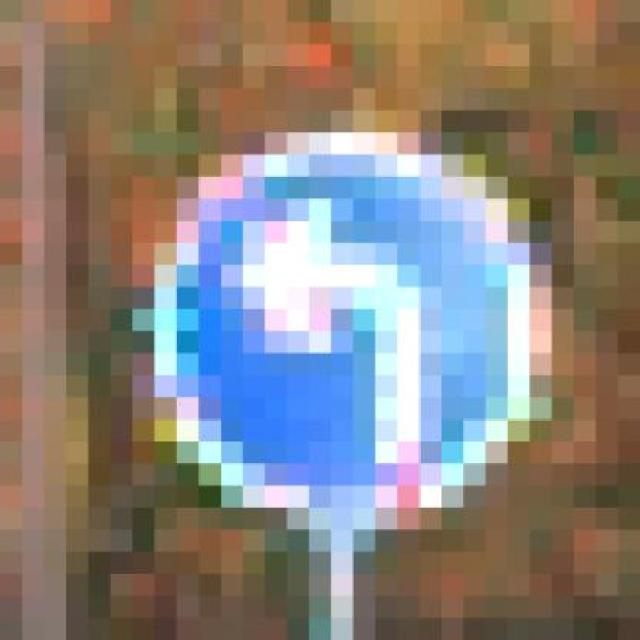Turn left ahead: (110, 110, 596, 530)
